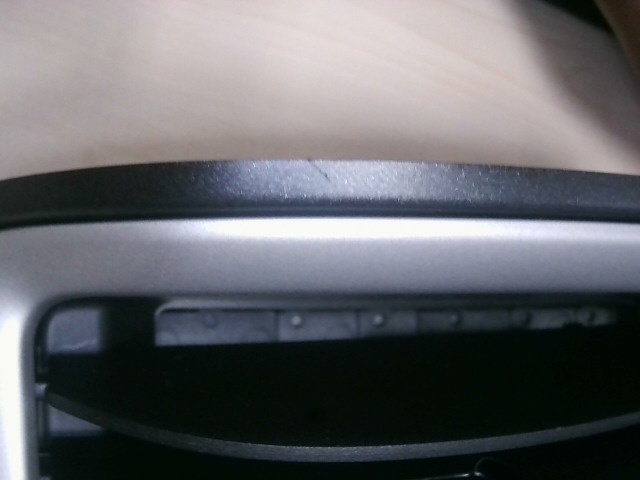NG: (302, 154, 337, 191)
